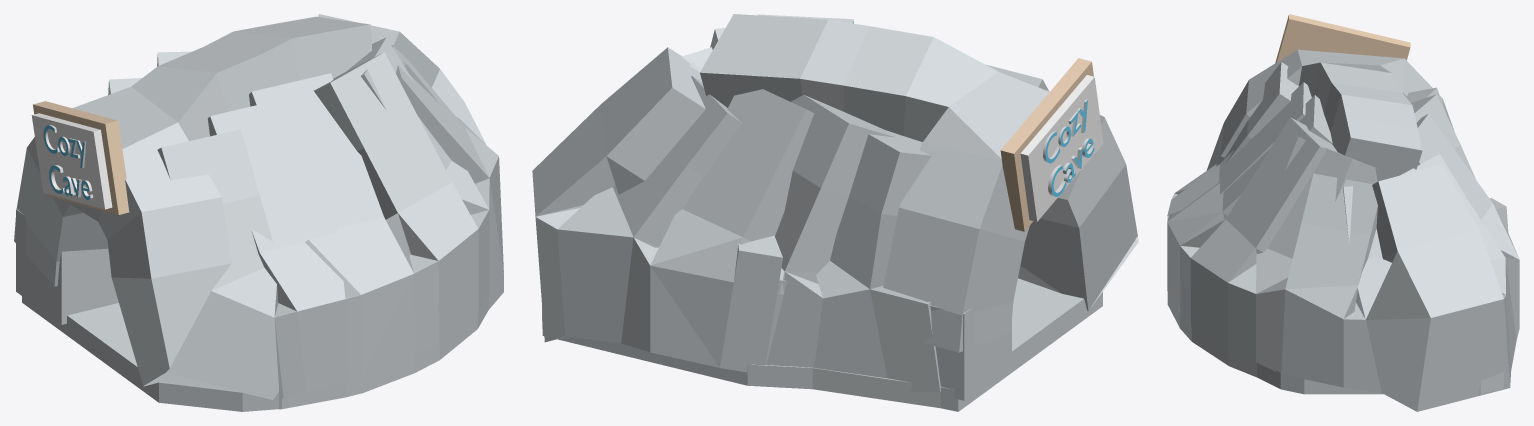
The model's file is Cave.fbx.
3 renders of one model, left to right at view 1: azimuth 30°, elevation 25°; view 2: azimuth 150°, elevation 25°; view 3: azimuth 270°, elevation 25°, orthographic. The views are drawn at different scales.
Visible parts, largest first — view 1: Cube, Plane, Text; view 2: Cube, Plane, Text; view 3: Cube, Plane.
Boxes of the visible parts, x1,y1,x2,y2 form: Cube: (14,14,503,411); Plane: (31,101,129,214); Text: (43,125,93,199); Cube: (532,14,1138,411); Plane: (1000,58,1103,231); Text: (1043,99,1094,196); Cube: (1167,49,1519,411); Plane: (1275,14,1410,62).
Bounding box in the file's own units: 12608 × 7227 × 10220.
